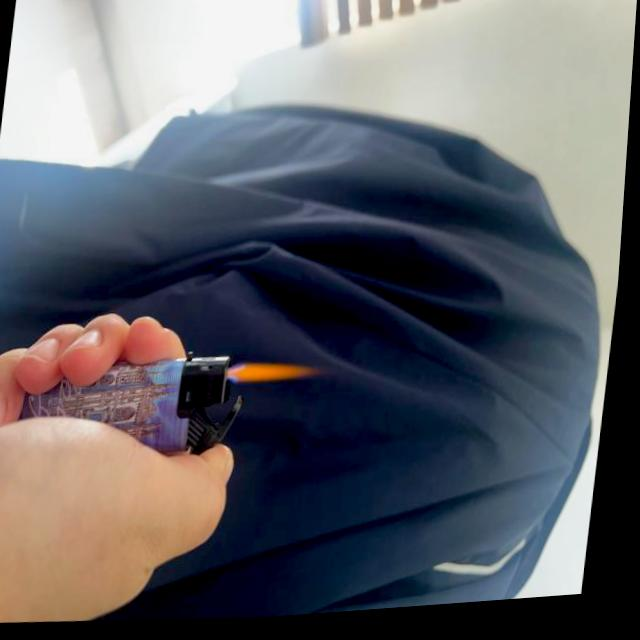helmet: (237, 359, 322, 392)
